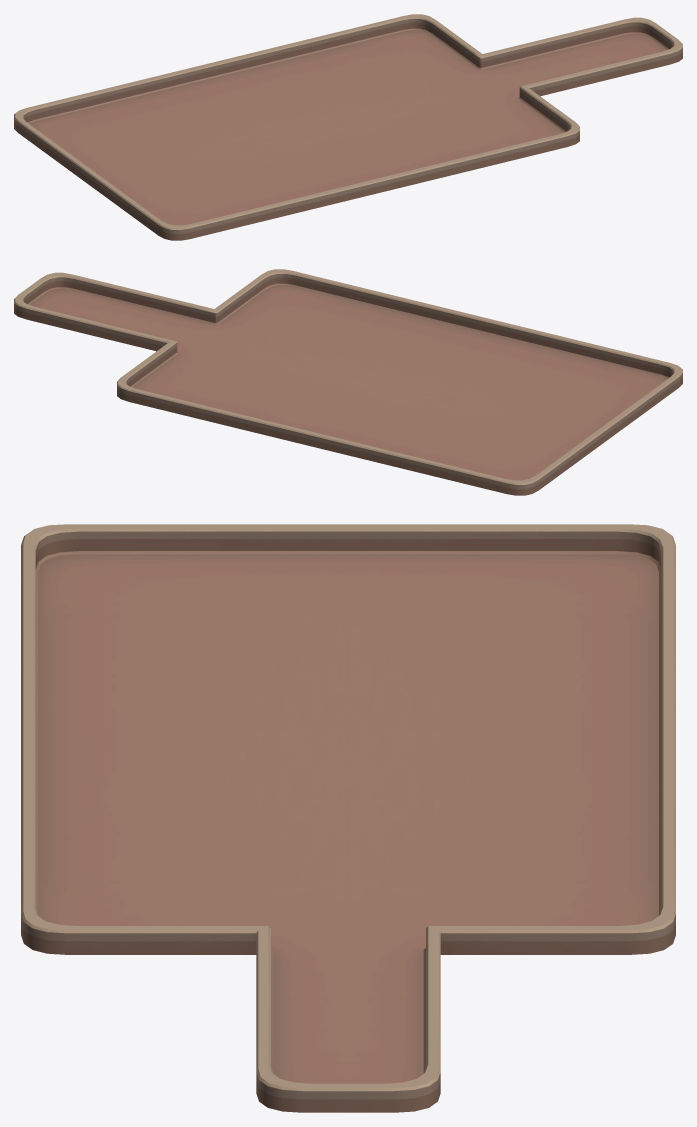
File: ground40X60_tu.fbx
3 views of the same model, one above another, from view 1: azimuth 30°, elevation 25°; view 2: azimuth 150°, elevation 25°; view 3: azimuth 270°, elevation 25° (orthographic). The views are drawn at different scales.
Visible parts, largest first — view 1: ground40X60_tu; view 2: ground40X60_tu; view 3: ground40X60_tu.
Part boxes in pixels (box(x1,y1,x2,y2)): ground40X60_tu: box(14, 14, 682, 240); ground40X60_tu: box(14, 269, 682, 495); ground40X60_tu: box(21, 524, 675, 1112).
Size of the model in its own units: 86.24 by 1.69 by 42.19.
